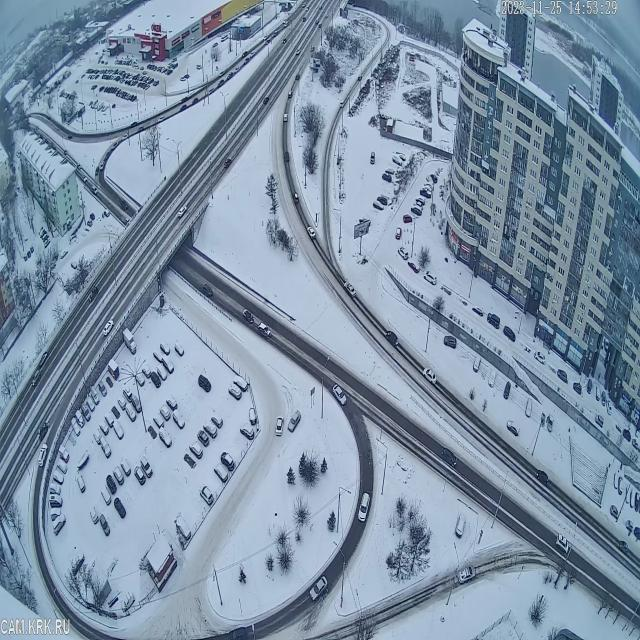car: (308, 576, 328, 602), (174, 516, 191, 543), (457, 564, 476, 586), (198, 483, 214, 507), (357, 493, 370, 522), (332, 383, 347, 408), (212, 462, 229, 484), (220, 448, 235, 472), (556, 528, 568, 558), (123, 329, 136, 356), (140, 454, 154, 479), (442, 446, 457, 469), (384, 327, 399, 350), (536, 465, 549, 490), (106, 360, 120, 383), (422, 365, 437, 386), (233, 372, 248, 393), (454, 513, 466, 539), (241, 418, 254, 442), (52, 514, 65, 538), (343, 278, 357, 300), (227, 382, 242, 402), (190, 438, 203, 461), (159, 427, 172, 450), (113, 498, 126, 520), (195, 429, 209, 449), (204, 420, 218, 440), (506, 418, 520, 438), (288, 409, 300, 432), (100, 436, 112, 459), (161, 355, 174, 376), (130, 394, 143, 415), (98, 515, 110, 537), (105, 474, 117, 496), (100, 484, 112, 506), (241, 308, 254, 328), (158, 400, 170, 421), (134, 465, 146, 486), (258, 322, 271, 341), (111, 420, 124, 439), (125, 403, 137, 423), (70, 418, 82, 438), (38, 444, 48, 468), (488, 312, 500, 332), (608, 503, 620, 523), (198, 375, 211, 393), (165, 394, 178, 412), (112, 466, 125, 484), (210, 409, 222, 428), (173, 411, 185, 430), (80, 404, 92, 423), (227, 628, 246, 640), (424, 268, 436, 287), (504, 324, 516, 343), (150, 371, 161, 391), (116, 393, 127, 413), (202, 282, 214, 300), (152, 413, 164, 431), (156, 364, 168, 382), (96, 380, 108, 398), (120, 460, 132, 478), (92, 428, 104, 446), (102, 320, 114, 338), (408, 257, 419, 276), (52, 469, 64, 486), (88, 506, 98, 526), (154, 348, 165, 366), (59, 446, 70, 464), (104, 410, 115, 428), (392, 150, 403, 168), (49, 495, 62, 510), (73, 412, 85, 428), (37, 424, 49, 440), (525, 395, 533, 419), (76, 475, 86, 494), (572, 379, 582, 398), (140, 362, 151, 379), (89, 388, 100, 405), (57, 458, 68, 475), (534, 349, 545, 366), (306, 224, 316, 242), (174, 340, 184, 358), (134, 370, 144, 388), (50, 508, 62, 523), (30, 370, 40, 388), (88, 286, 98, 304), (398, 244, 408, 262), (444, 335, 456, 350), (488, 368, 497, 388), (620, 536, 629, 556), (50, 481, 61, 497), (123, 384, 132, 403), (473, 302, 483, 319), (472, 356, 481, 374), (558, 367, 567, 385), (275, 416, 283, 436), (290, 190, 300, 206), (160, 340, 170, 356), (100, 420, 110, 436), (372, 200, 383, 214), (547, 412, 554, 434), (595, 413, 604, 430), (86, 397, 96, 412), (222, 156, 232, 171), (629, 486, 635, 511), (378, 192, 387, 208), (410, 206, 422, 218), (626, 518, 634, 536), (504, 381, 511, 401), (586, 378, 593, 397), (177, 205, 187, 218), (386, 165, 396, 178), (39, 352, 47, 368), (618, 473, 623, 498), (594, 384, 600, 404), (404, 213, 413, 226), (383, 173, 392, 185), (632, 438, 639, 453), (601, 388, 606, 408), (624, 428, 630, 444), (634, 525, 640, 541), (635, 490, 639, 513), (607, 399, 612, 417), (395, 226, 401, 240), (614, 471, 618, 492), (626, 485, 630, 505), (263, 96, 269, 108), (282, 111, 288, 123), (284, 150, 289, 164), (370, 152, 375, 166), (288, 91, 292, 101)
